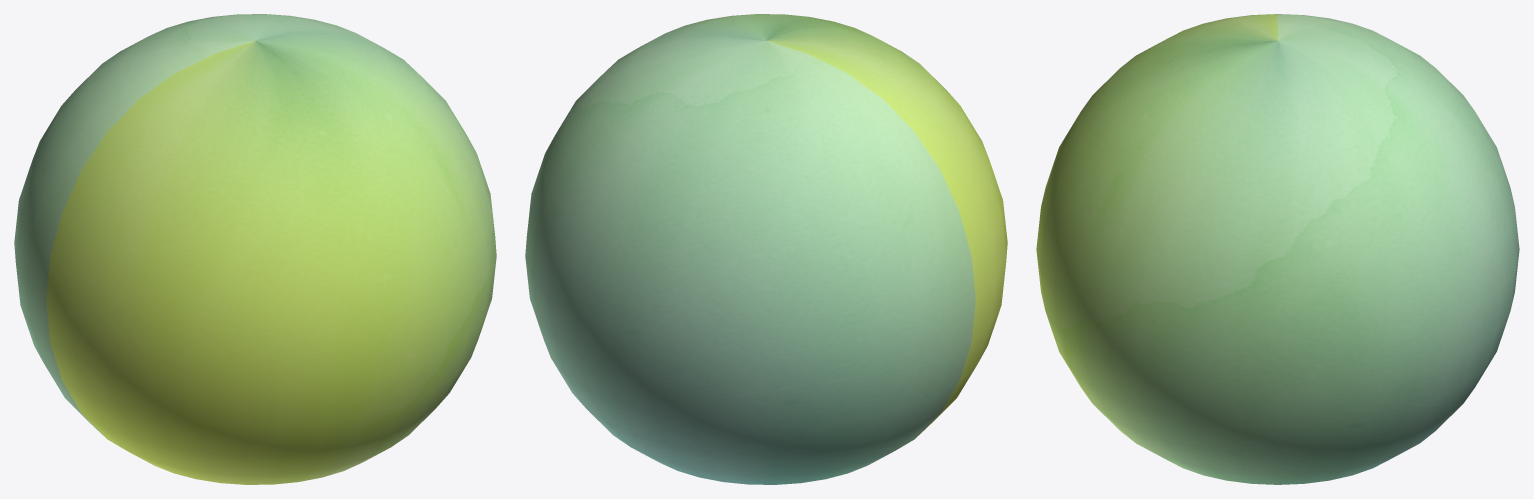
File: ball_frame1.obj
3 renders of one model, left to right at view 1: azimuth 30°, elevation 25°; view 2: azimuth 150°, elevation 25°; view 3: azimuth 270°, elevation 25°, orthographic.
Parts seen in each view (by area): view 1: Sphere; view 2: Sphere; view 3: Sphere.
Boxes of the visible parts, x1,y1,x2,y2 form: Sphere: [14, 14, 496, 484]; Sphere: [525, 14, 1007, 484]; Sphere: [1036, 14, 1519, 484].
Size of the model in its own units: 2 by 1.9 by 2.
